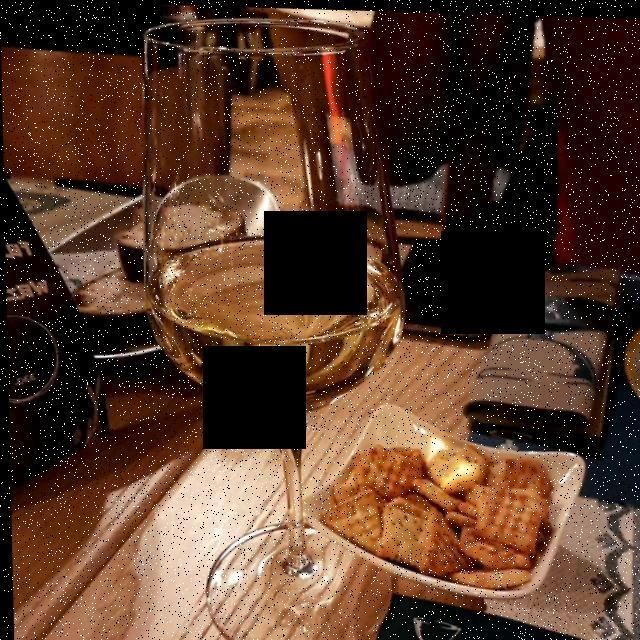drink: (161, 247, 388, 401)
